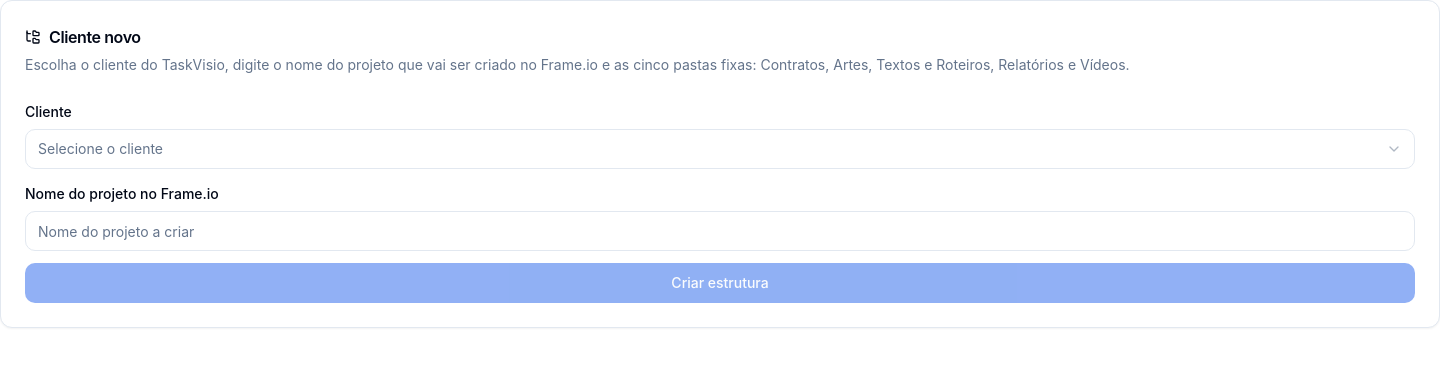
it: ClientStructureForm — seletor › dá para escolher um cliente inativo — o flag é anotação, não trava
Later steps or results of the test are not shown.
Press the mouse on the dropdown labelled "cliente" at (101, 148), box [25,129,1415,169]
Click the dropdown labelled "cliente" at (101, 148), box [25,129,1415,169]
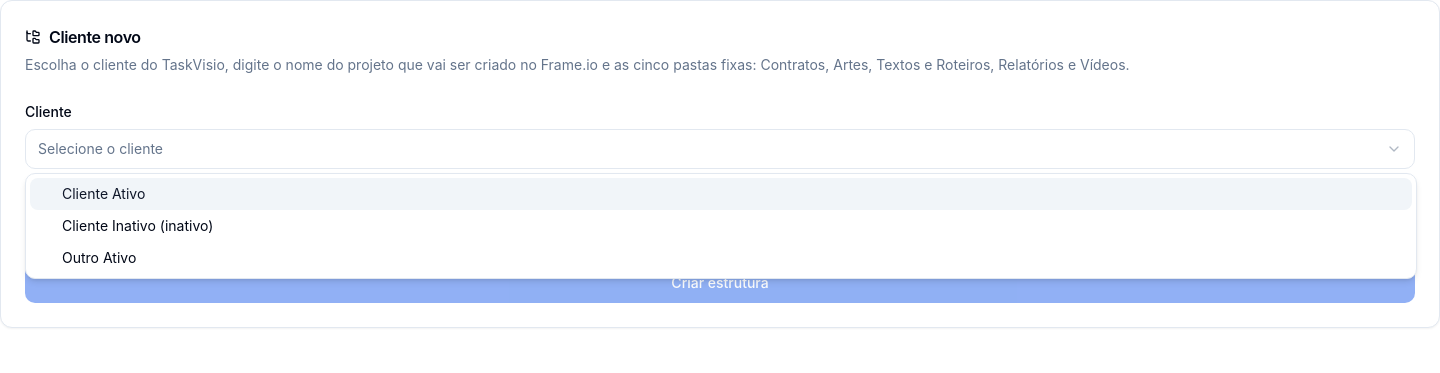
Click the option "Cliente Inativo (inativo)" at (138, 226), box [62,217,213,234]
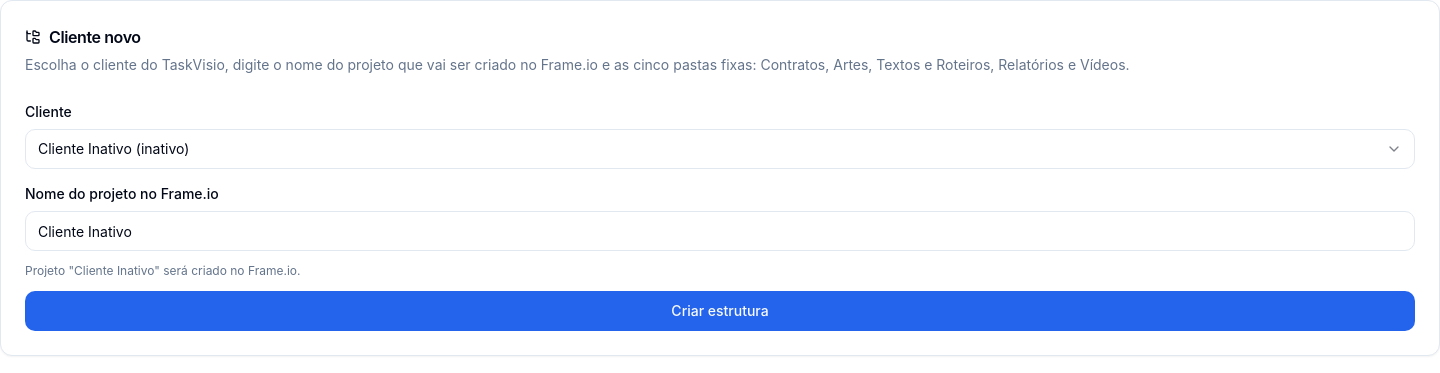
Check: the button "Criar estrutura" is enabled, box [25,291,1415,331]
